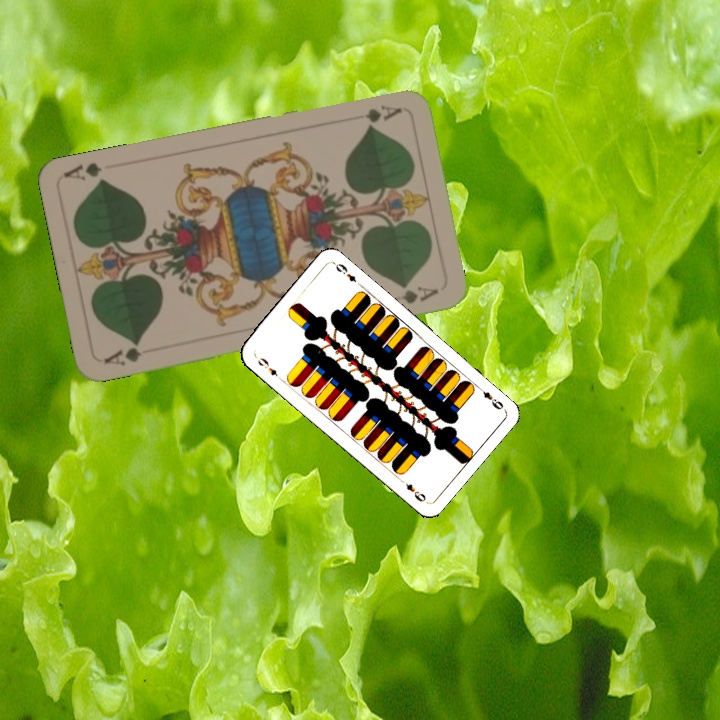E9: (251, 352, 284, 383), (473, 382, 506, 412)
GA: (100, 338, 144, 369), (361, 100, 405, 130)
